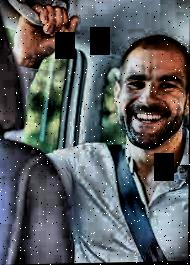seatbelt: (108, 139, 170, 263)
